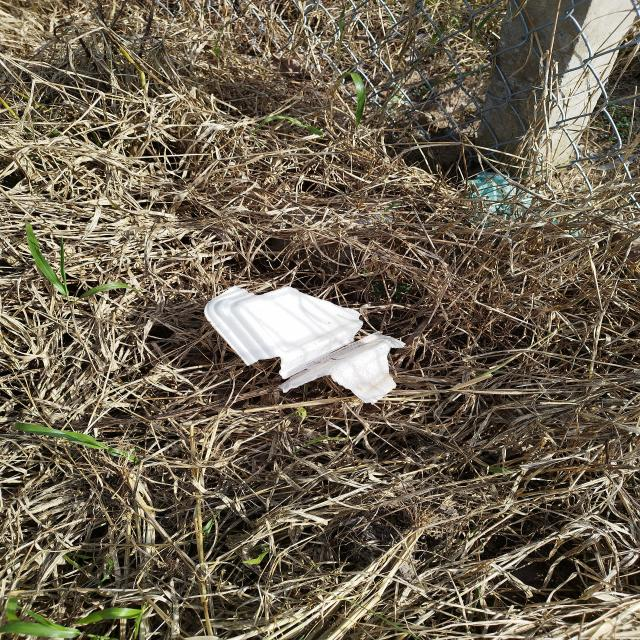foam box: (208, 284, 405, 404)
